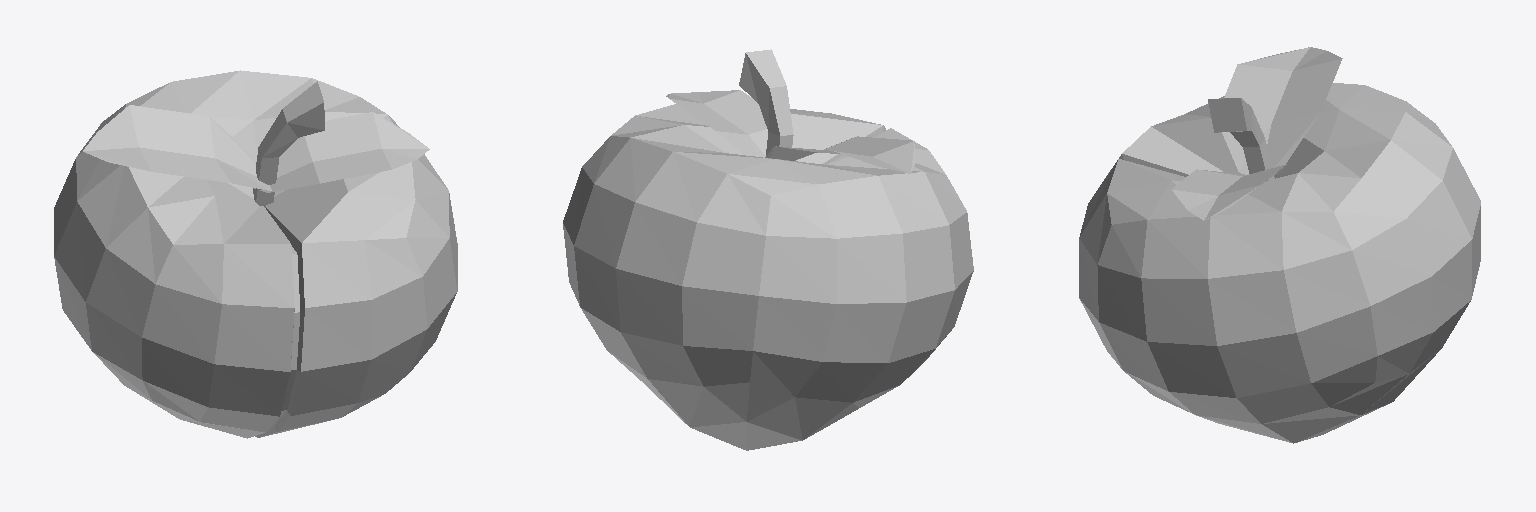
Rendered from peach.obj.
3 views of the same model, side by side, from view 1: azimuth 30°, elevation 25°; view 2: azimuth 150°, elevation 25°; view 3: azimuth 270°, elevation 25° (orthographic).
Parts seen in each view (by area): view 1: gummi_peach, Plane.003, Plane.002, Cube.002; view 2: gummi_peach, Plane.002, Cube.002, Plane.003; view 3: gummi_peach, Plane.003, Plane.002, Cube.002.
Boxes of the visible parts, x1,y1,x2,y2 form: gummi_peach: [54, 70, 457, 438]; Plane.003: [83, 105, 271, 190]; Plane.002: [254, 112, 429, 192]; Cube.002: [253, 81, 324, 205]; gummi_peach: [563, 104, 973, 450]; Plane.002: [666, 90, 767, 157]; Cube.002: [739, 49, 793, 155]; Plane.003: [765, 136, 915, 173]; gummi_peach: [1079, 83, 1480, 443]; Plane.003: [1222, 47, 1342, 174]; Plane.002: [1171, 164, 1286, 220]; Cube.002: [1208, 98, 1274, 180].
Size of the model in its own units: 1.81 by 1.73 by 1.77.